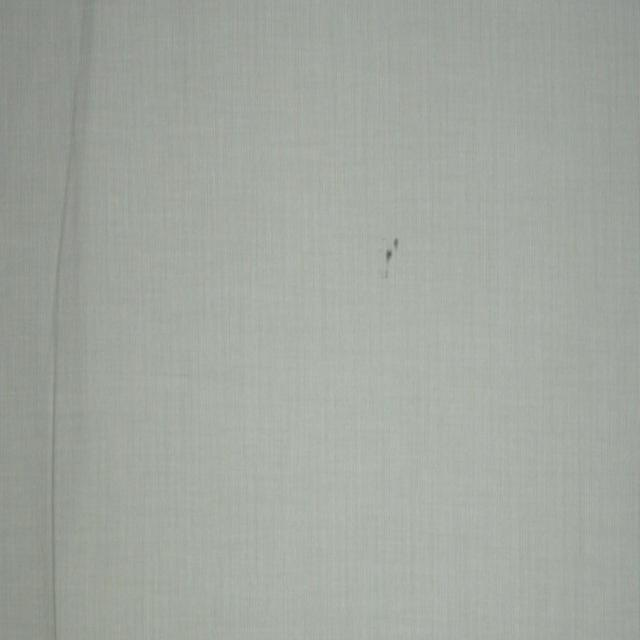dirty: (382, 236, 400, 278)
